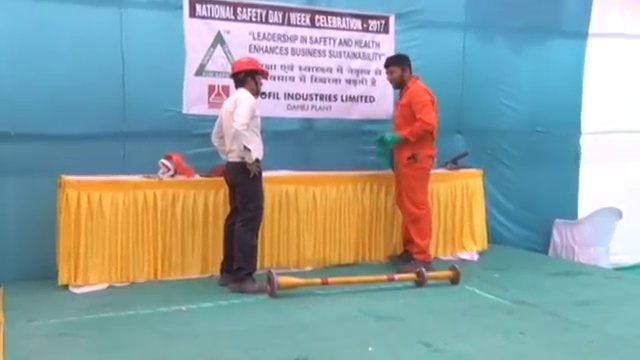helmet: (229, 56, 269, 81)
helmet_off: (383, 53, 412, 91)
helmet_on: (228, 55, 270, 99)
person: (212, 55, 268, 293), (382, 52, 437, 270)
